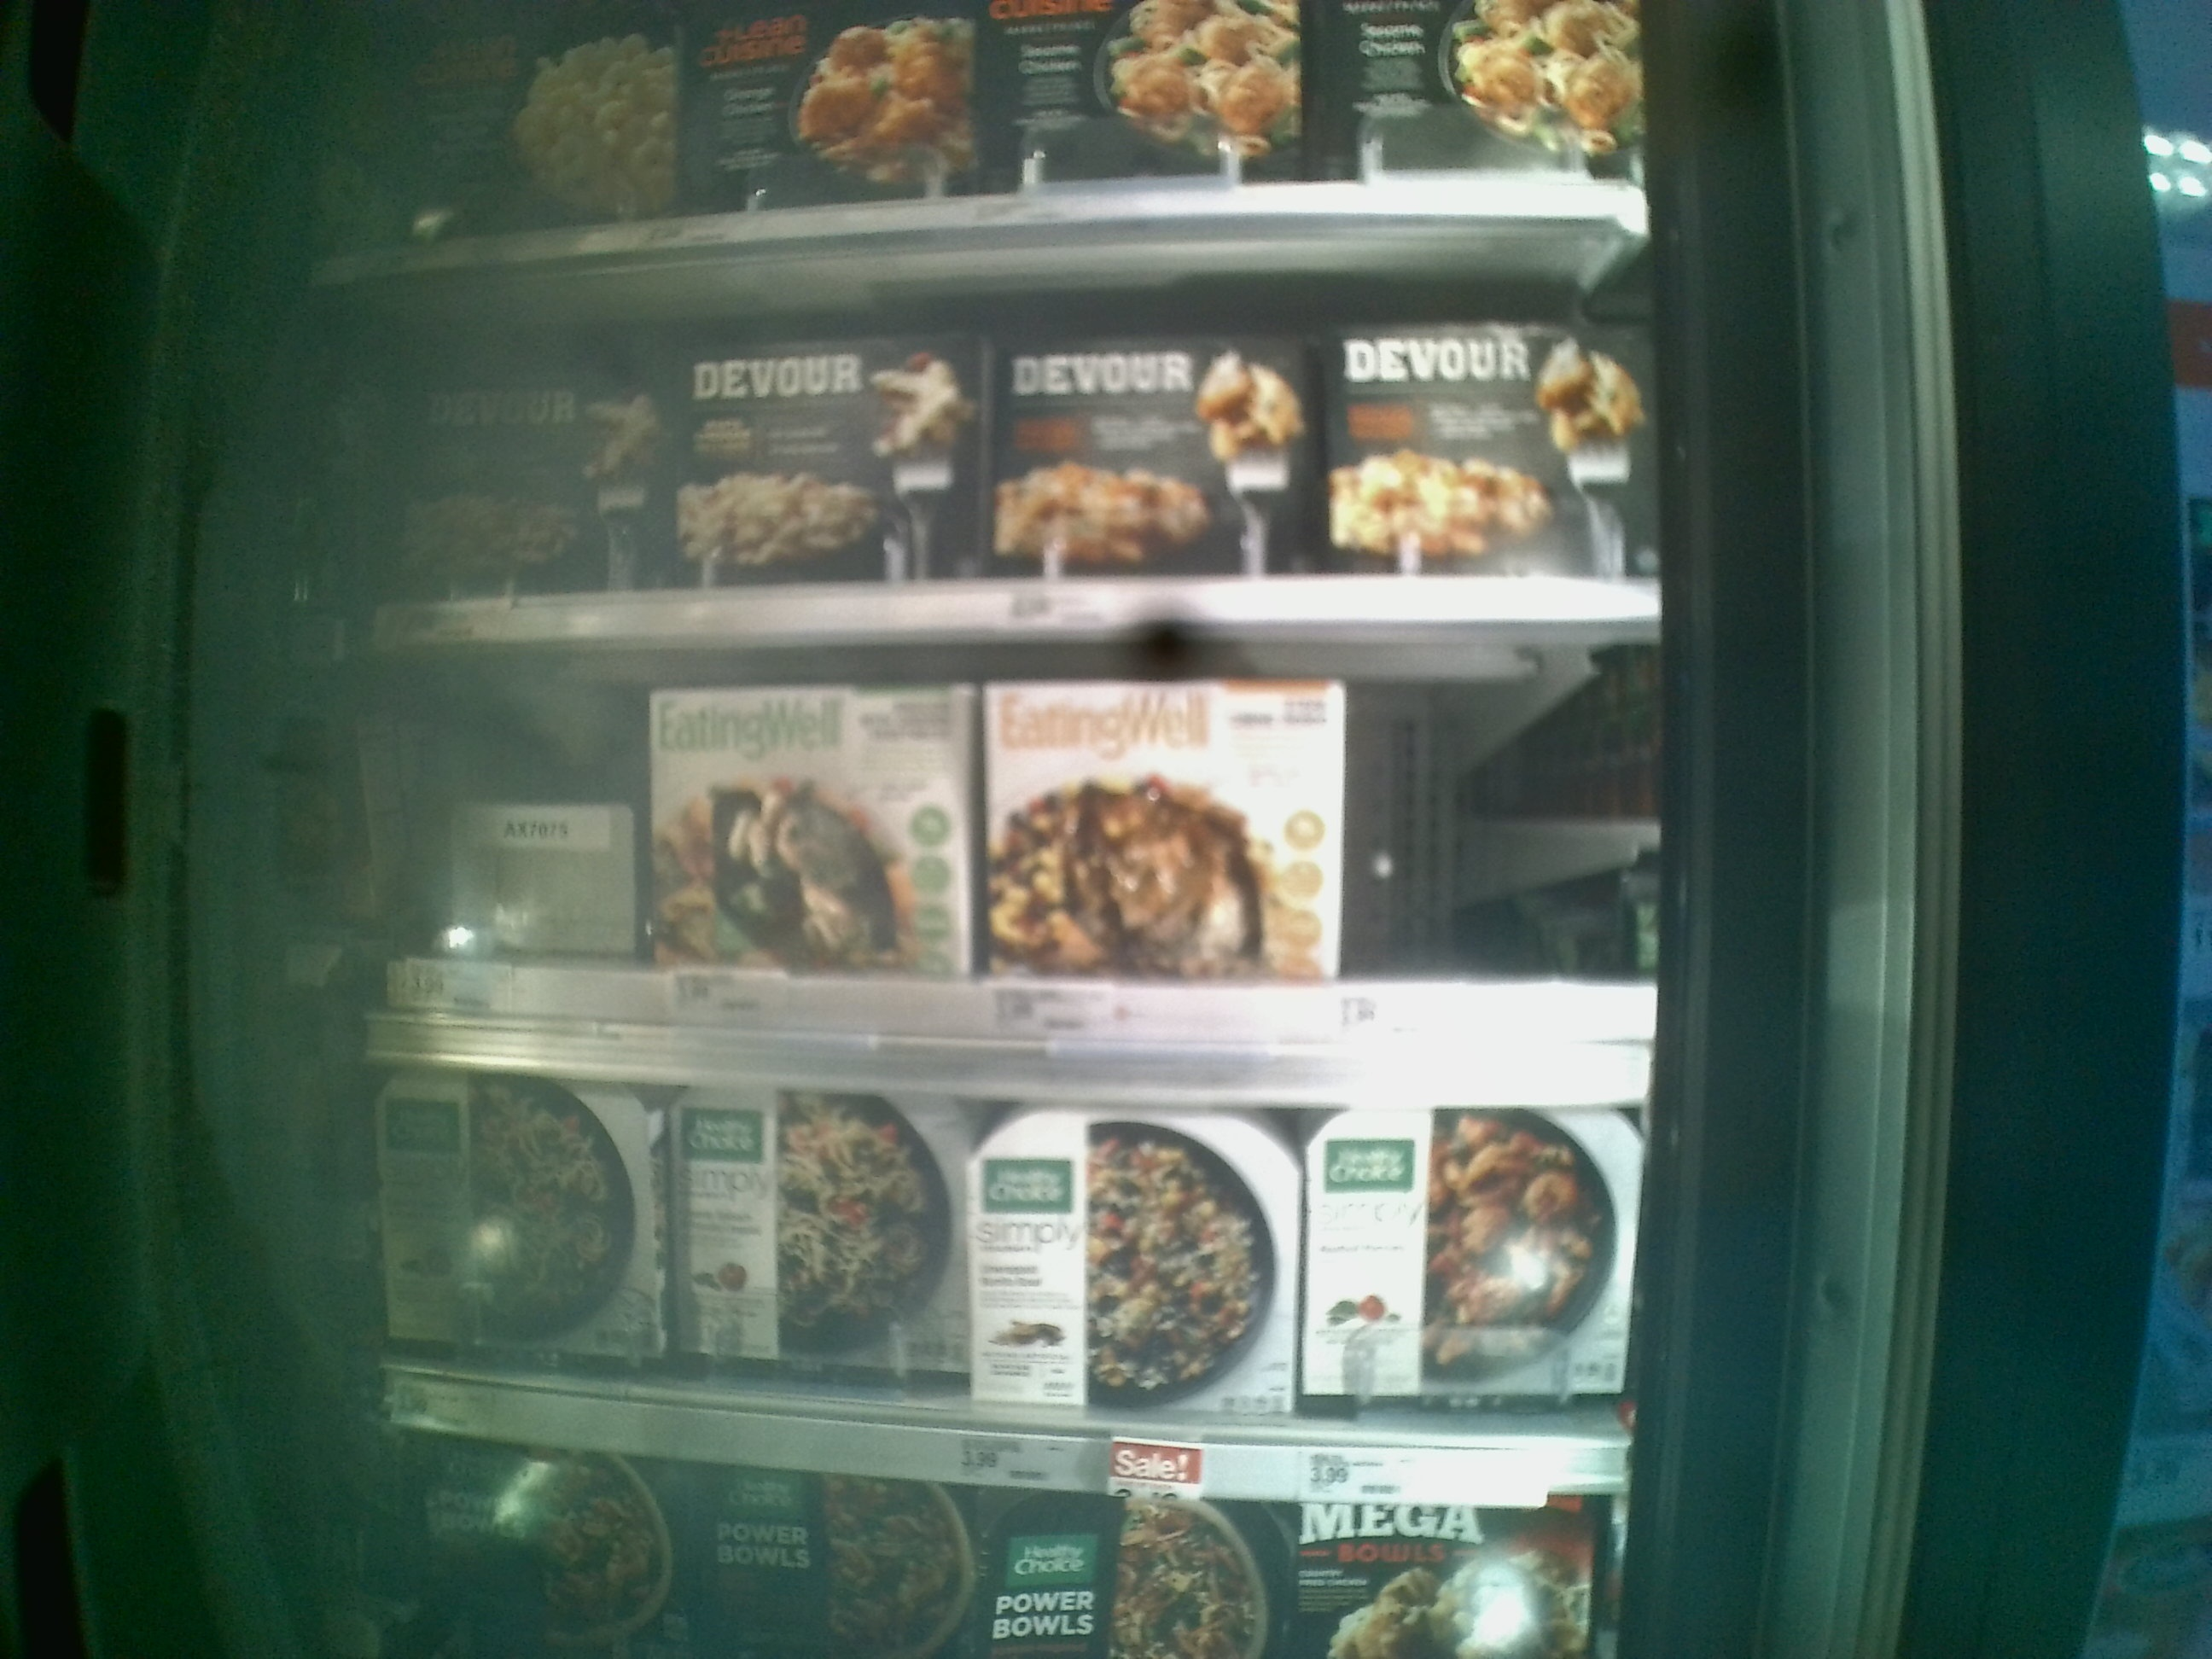shelf: (366, 1054, 1689, 1507)
